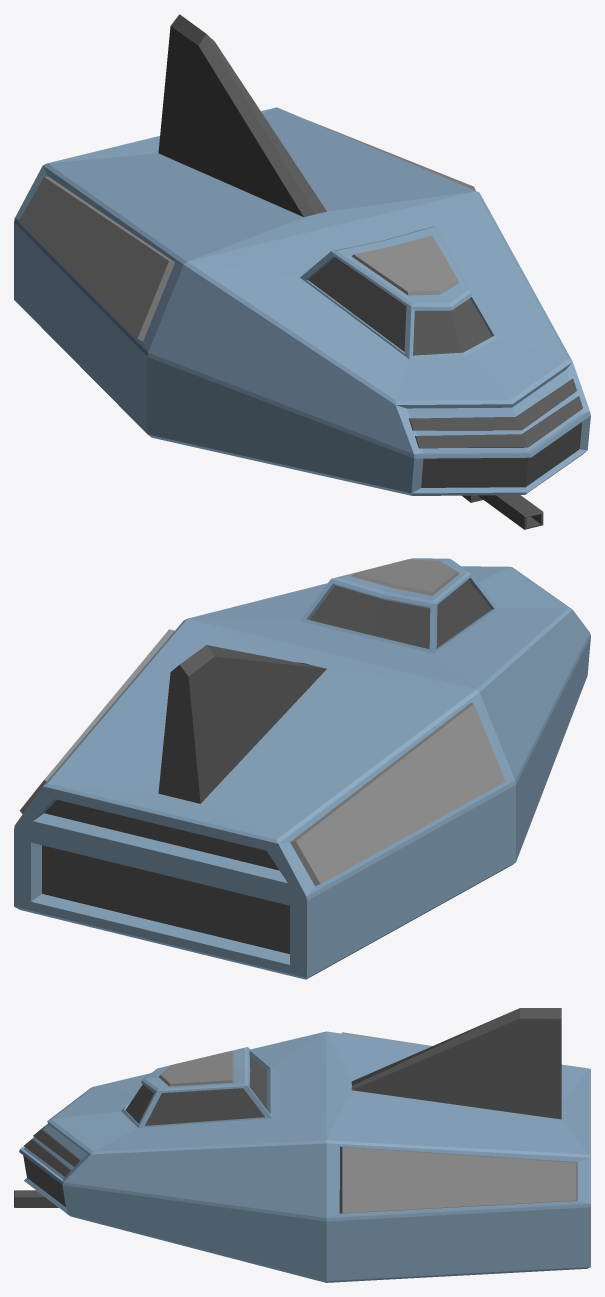
The model's file is Floater.fbx.
3 renders of one model, top to bottom at view 1: azimuth 30°, elevation 25°; view 2: azimuth 150°, elevation 25°; view 3: azimuth 270°, elevation 25°, orthographic. The views are drawn at different scales.
Visible parts, largest first — view 1: floater_body, floater_grill, floater_grill1, floater_gun; view 2: floater_body; view 3: floater_body, floater_gun, floater_grill, floater_grill1.
Boxes of the visible parts, <box> form: floater_body: <box>14,14,590,495</box>; floater_grill: <box>409,378,576,430</box>; floater_grill1: <box>415,396,582,448</box>; floater_gun: <box>462,495,543,529</box>; floater_body: <box>14,558,590,979</box>; floater_body: <box>19,1008,590,1282</box>; floater_gun: <box>14,1190,58,1207</box>; floater_grill: <box>33,1124,80,1166</box>; floater_grill1: <box>24,1137,70,1176</box>.
Size of the model in its own units: 2.48 by 1.72 by 4.35.
